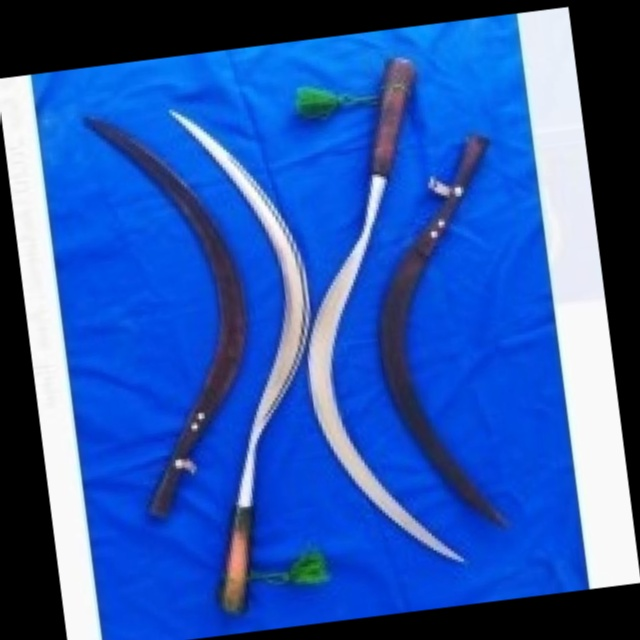Sharp-Object: (262, 46, 484, 586), (147, 81, 353, 621)
